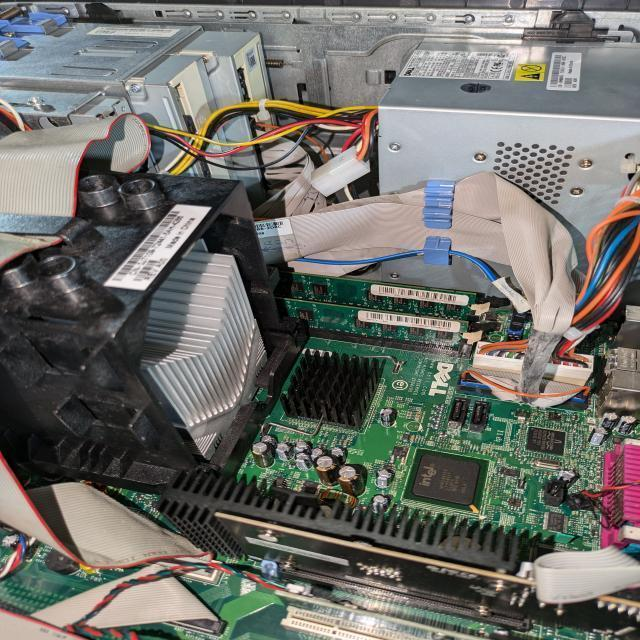CPU_Fan: (81, 236, 272, 464)
Mainboard: (0, 279, 640, 640)
PSU: (377, 39, 640, 300)
RAM: (280, 270, 476, 324), (274, 297, 468, 351)
